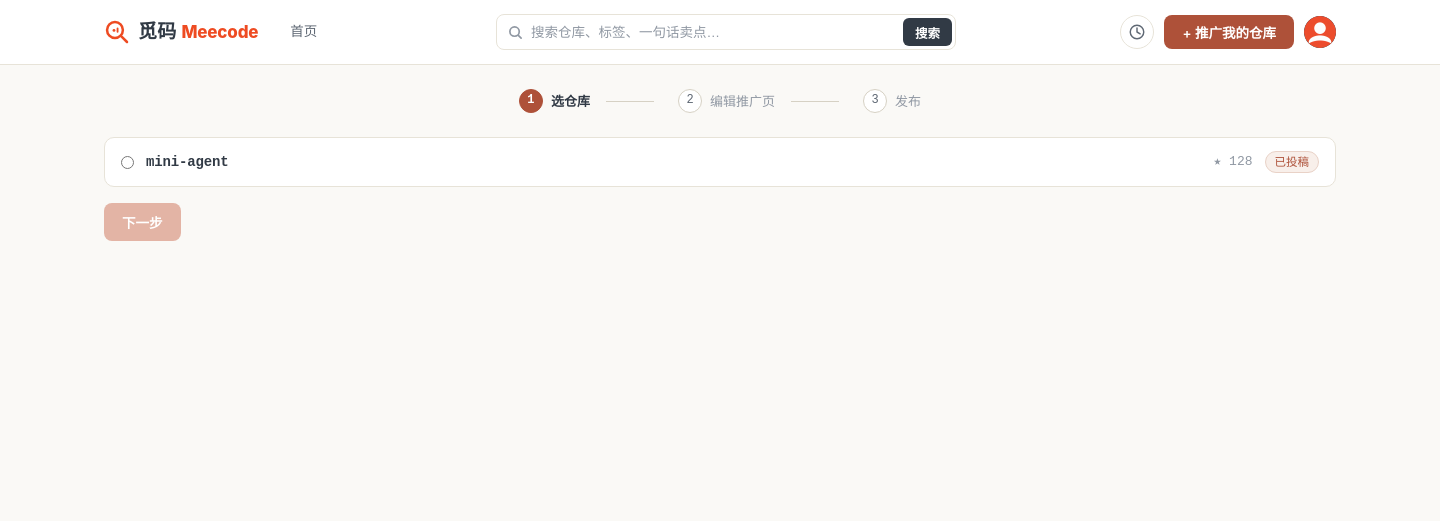
SubmitPage › 步2 卖点必填校验与 AI 草稿
Click the radio button labelled "mini-agent ★ 128 已投稿".
click(128, 162)  # box [121,156,134,169]
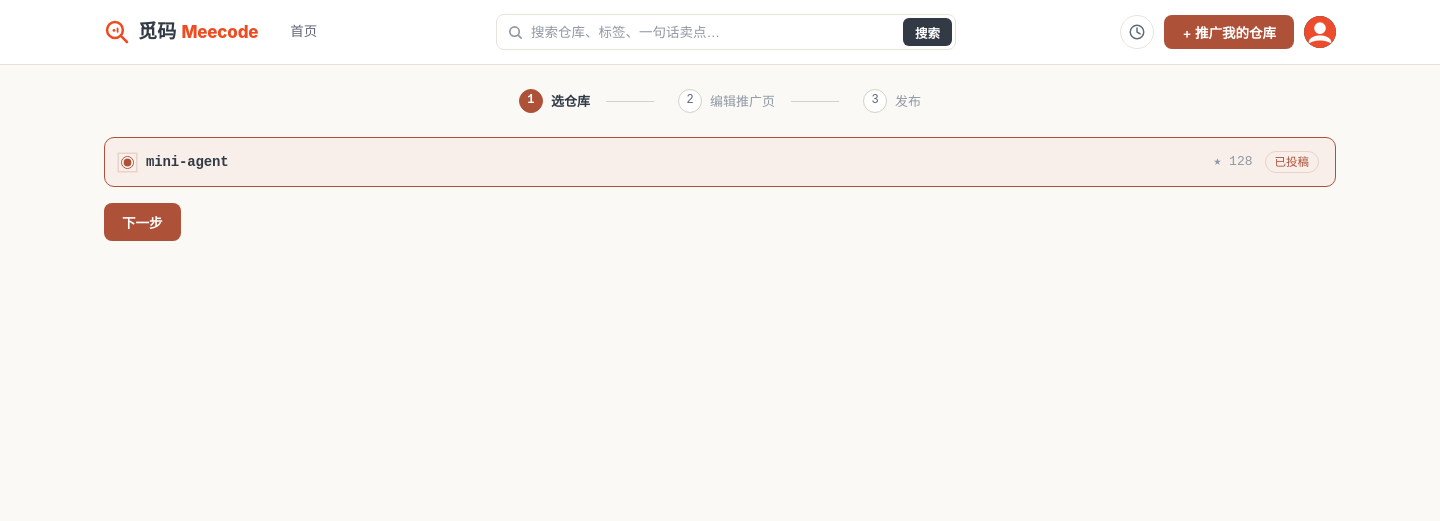
Click the button "下一步".
click(142, 222)  # box [104,203,180,241]
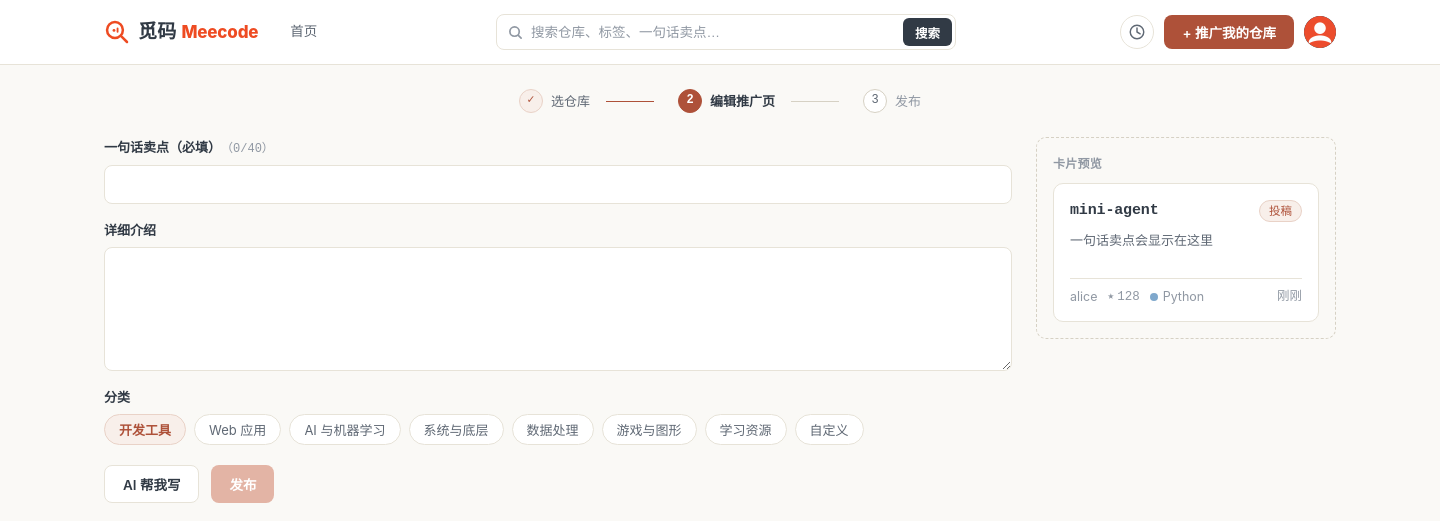
Check: the button "发布" is disabled, box [212,465,274,503]
Click the button "AI 帮我写".
click(152, 484)  # box [104,465,200,503]
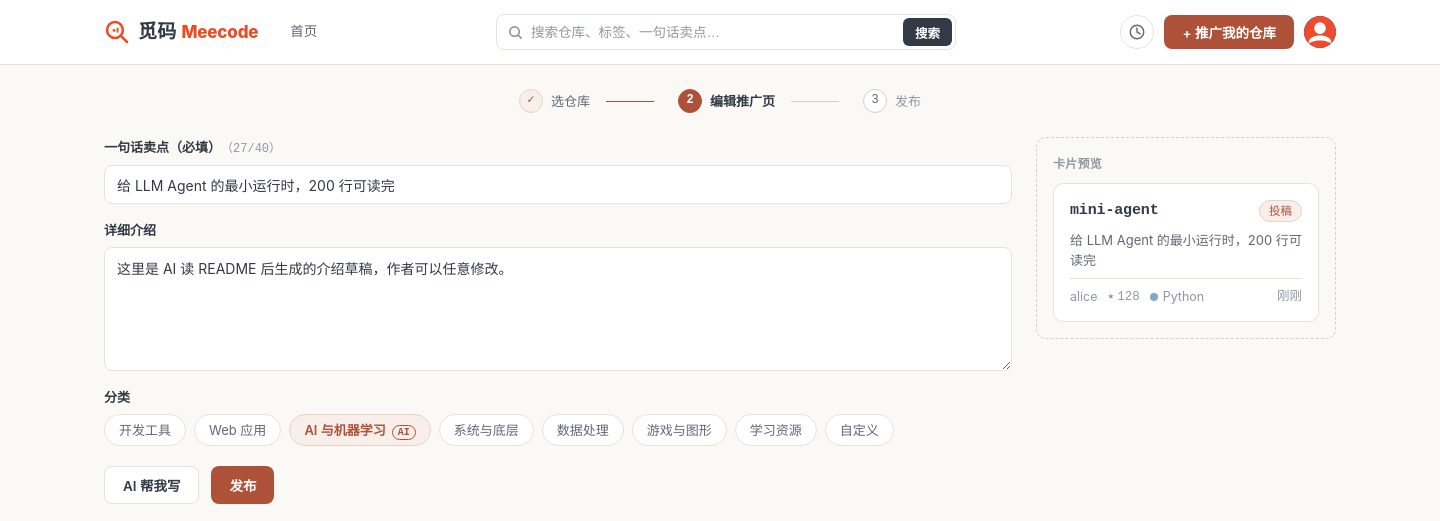
Check: the field showing "最小运行时" is shown, box [104,165,1012,204]
Check: the button "发布" is enabled, box [212,466,274,504]
